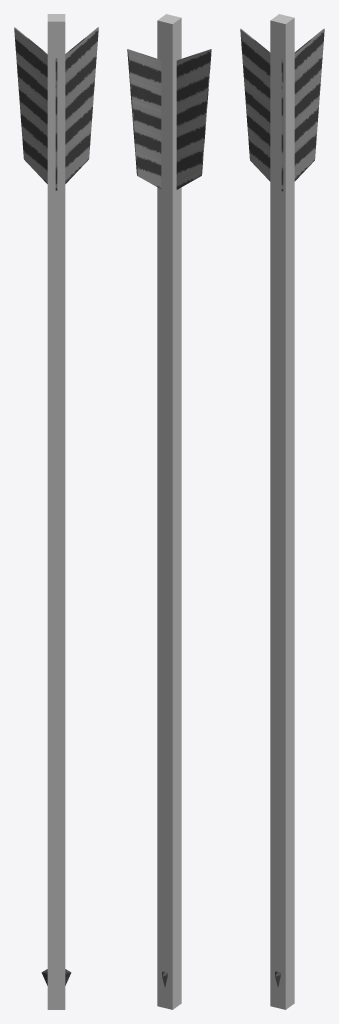
The model's file is SM_Arrow.fbx.
3 renders of one model, left to right at view 1: azimuth 90°, elevation 25°; view 2: azimuth 150°, elevation 25°; view 3: azimuth 330°, elevation 25°, orthographic.
Visible parts, largest first — view 1: SM_Arrow_ConvexHulls, SM_Arrow; view 2: SM_Arrow_ConvexHulls, SM_Arrow; view 3: SM_Arrow_ConvexHulls, SM_Arrow.
Boxes of the visible parts, <box> form: SM_Arrow_ConvexHulls: <box>47,14,65,1009</box>; SM_Arrow: <box>14,27,98,985</box>; SM_Arrow_ConvexHulls: <box>157,14,181,1009</box>; SM_Arrow: <box>127,49,211,987</box>; SM_Arrow_ConvexHulls: <box>270,14,294,1009</box>; SM_Arrow: <box>240,28,324,987</box>.
Bounding box in the file's own units: 5.38 × 6.22 × 80.
2 materials, 1 textured.
